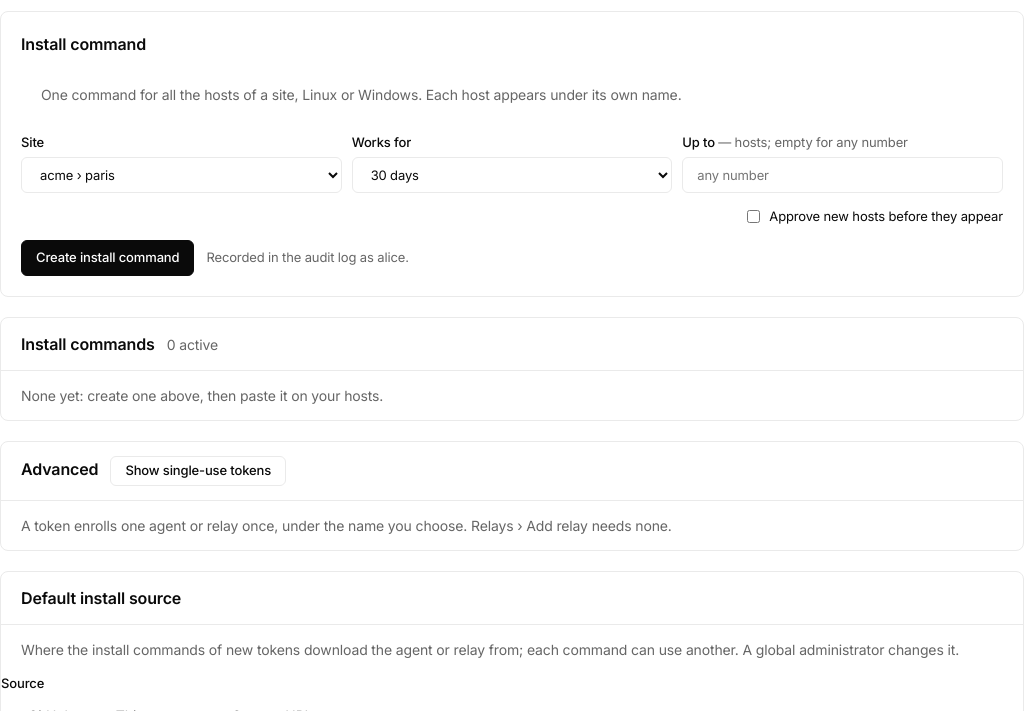
Test: TokensAdmin › shows no install commands for a relay token
Click the button "Show single-use tokens": click(198, 471) x1=110 y1=456 x2=286 y2=486
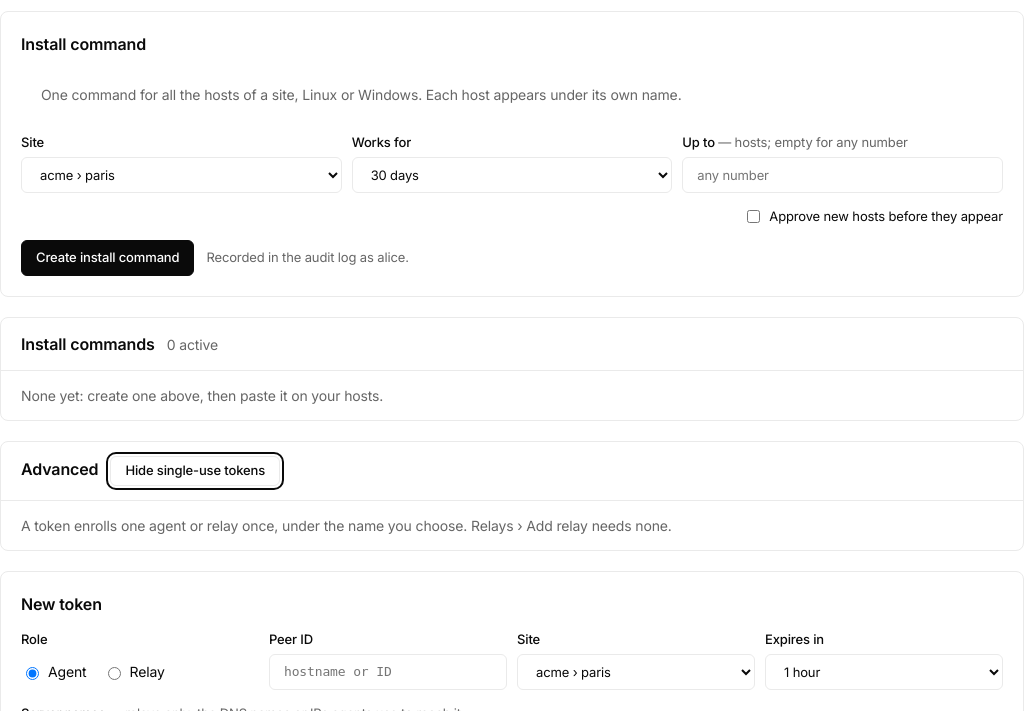
Click the radio button labelled "Relay": click(114, 673) x1=108 y1=666 x2=121 y2=680
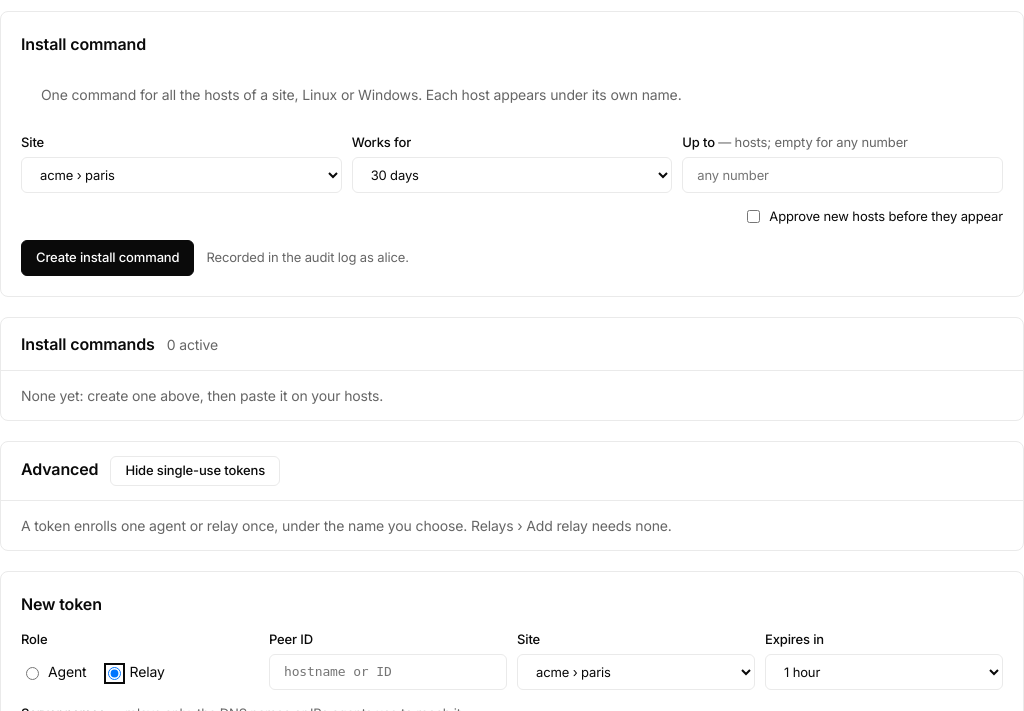
In the field labelled "Peer ID": (388, 672) x1=269 y1=654 x2=507 y2=690, type "relay-1"
(page scrolled)
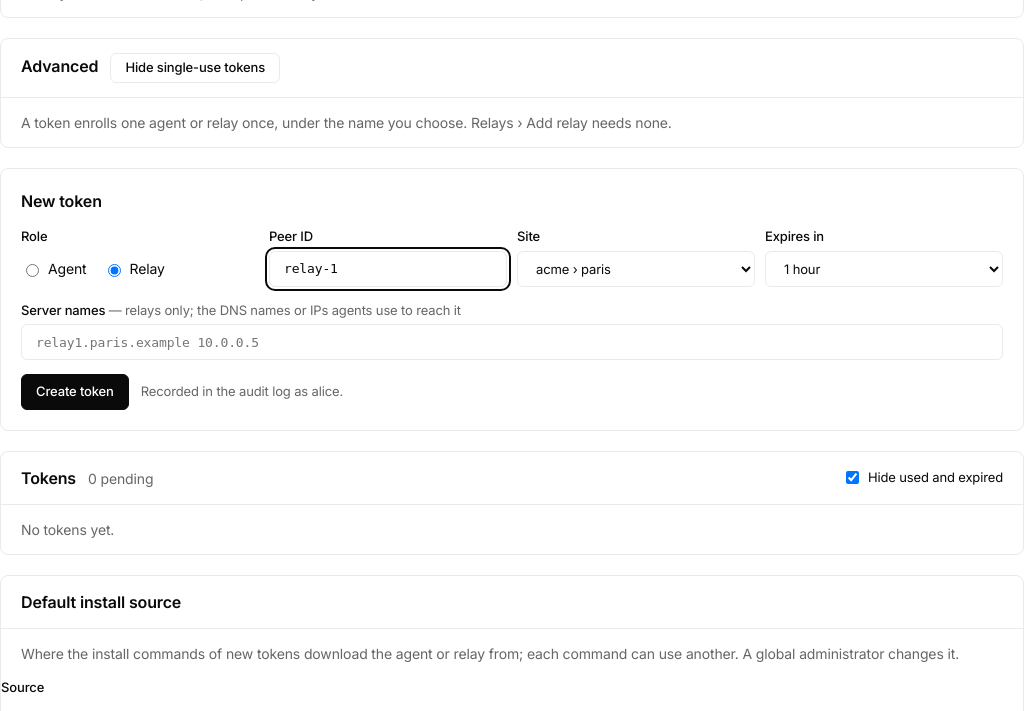
In the field labelled "Server names": (512, 342) x1=21 y1=324 x2=1003 y2=360, type "relay1.example"
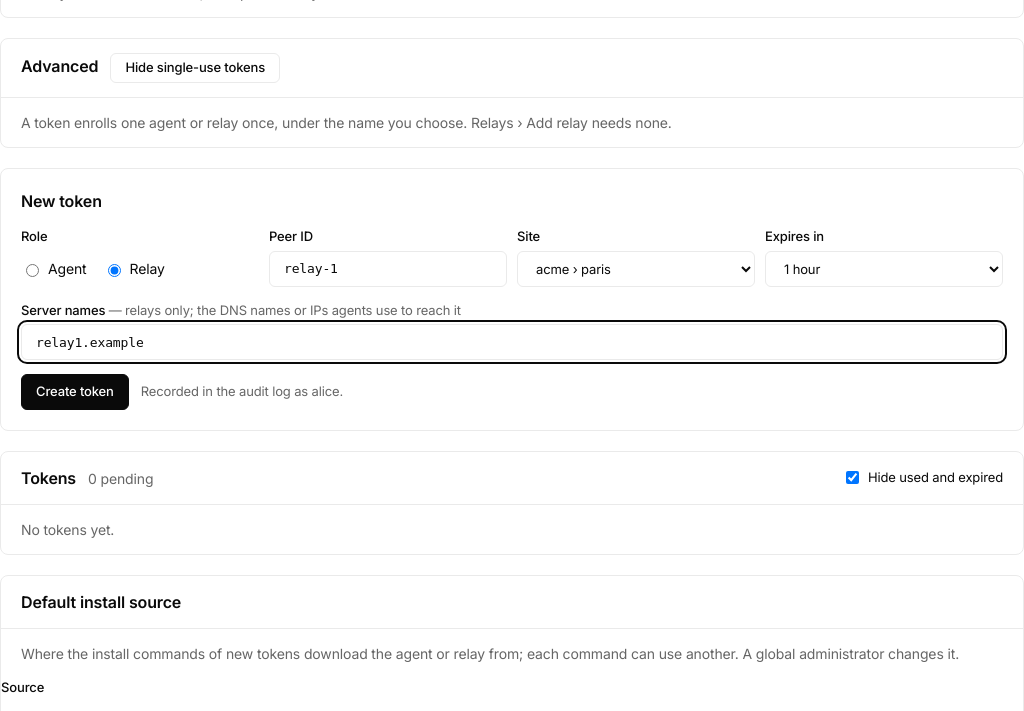
Click the button "Create token": click(75, 392) x1=21 y1=374 x2=129 y2=410
(page scrolled)
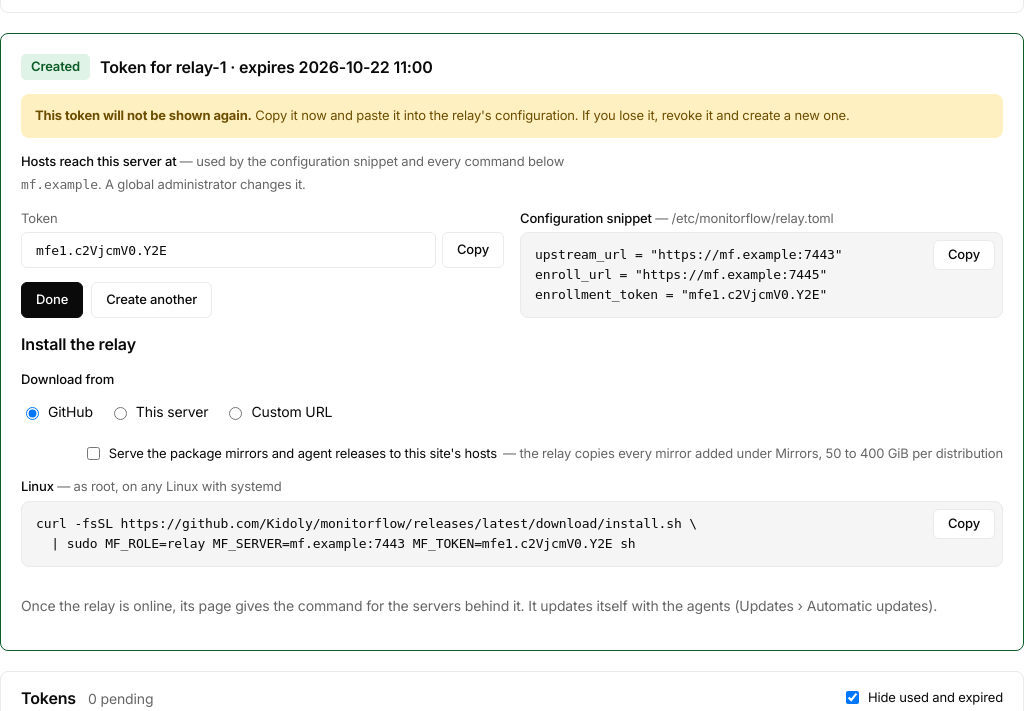
Result: the element "Token for relay-1" is shown
